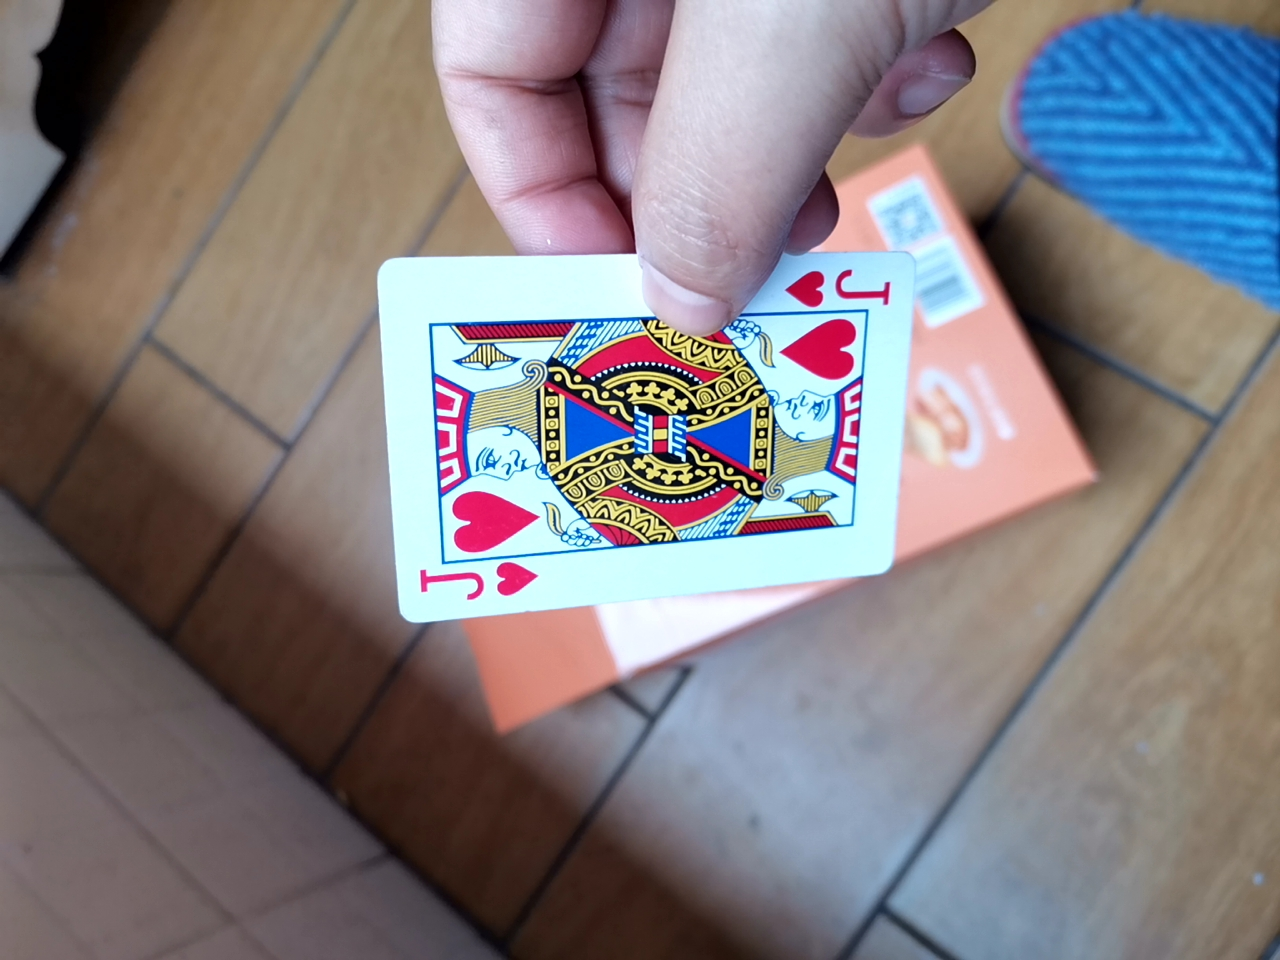hx j: (361, 226, 956, 677)
